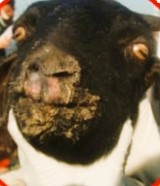ppr: (10, 56, 94, 142)
